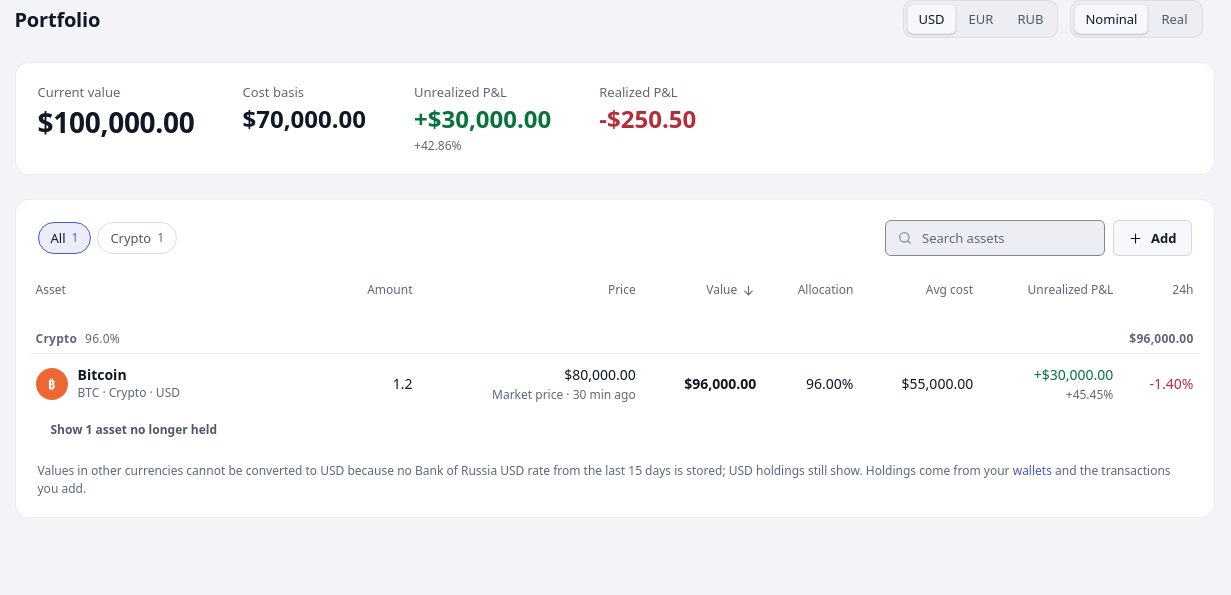
Test: PV-UI Portfolio values every asset › portfolio-16 offers a type filter only for the types that hold assets
The image size is (1231, 595).
Expected: the row "Bitcoin" is shown, [30,353,1200,414]
Toncoin is no longer held, so it shows only when asked for.
Step 1. Click the button "Show 1 asset no longer held" → coordinates (134, 430), box [38,414,230,446]
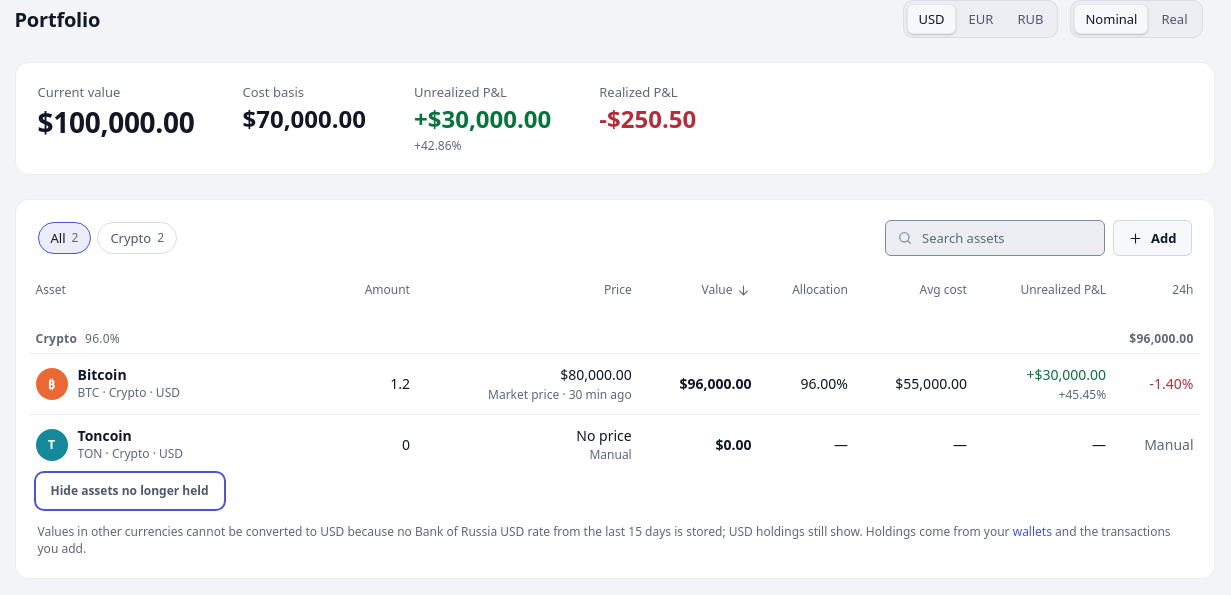
Expected: the buttons read "All 2", "Crypto 2", in this order, [38,222,91,254]; [97,222,177,254]
